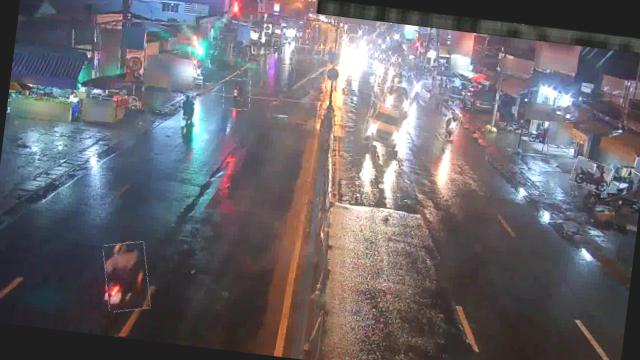Bike: (98, 239, 154, 314), (569, 156, 613, 192), (220, 76, 252, 110), (178, 94, 200, 128), (442, 110, 461, 140)
Car: (361, 100, 407, 150), (382, 83, 413, 113)
